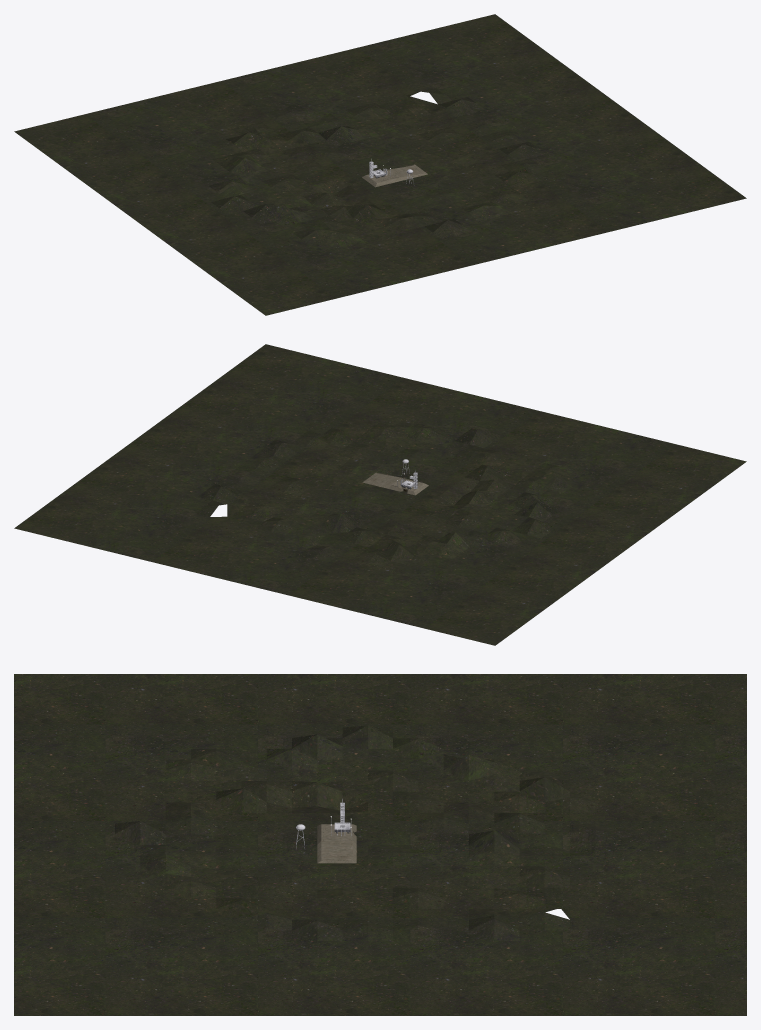
File: launch_site.gltf
3 views of the same model, one above another, from view 1: azimuth 30°, elevation 25°; view 2: azimuth 150°, elevation 25°; view 3: azimuth 270°, elevation 25° (orthographic). The views are drawn at different scales.
Parts seen in each view (by area): view 1: ground, basis; view 2: ground, basis; view 3: ground, basis.
Part boxes in pixels (<box>): ground: <box>14,14,746,315</box>; basis: <box>362,164,427,187</box>; ground: <box>14,344,746,645</box>; basis: <box>362,472,428,495</box>; ground: <box>14,674,746,1015</box>; basis: <box>317,824,356,863</box>.
Bounding box in the file's own units: 2040 × 111 × 1848.
6 materials, 4 textured.
